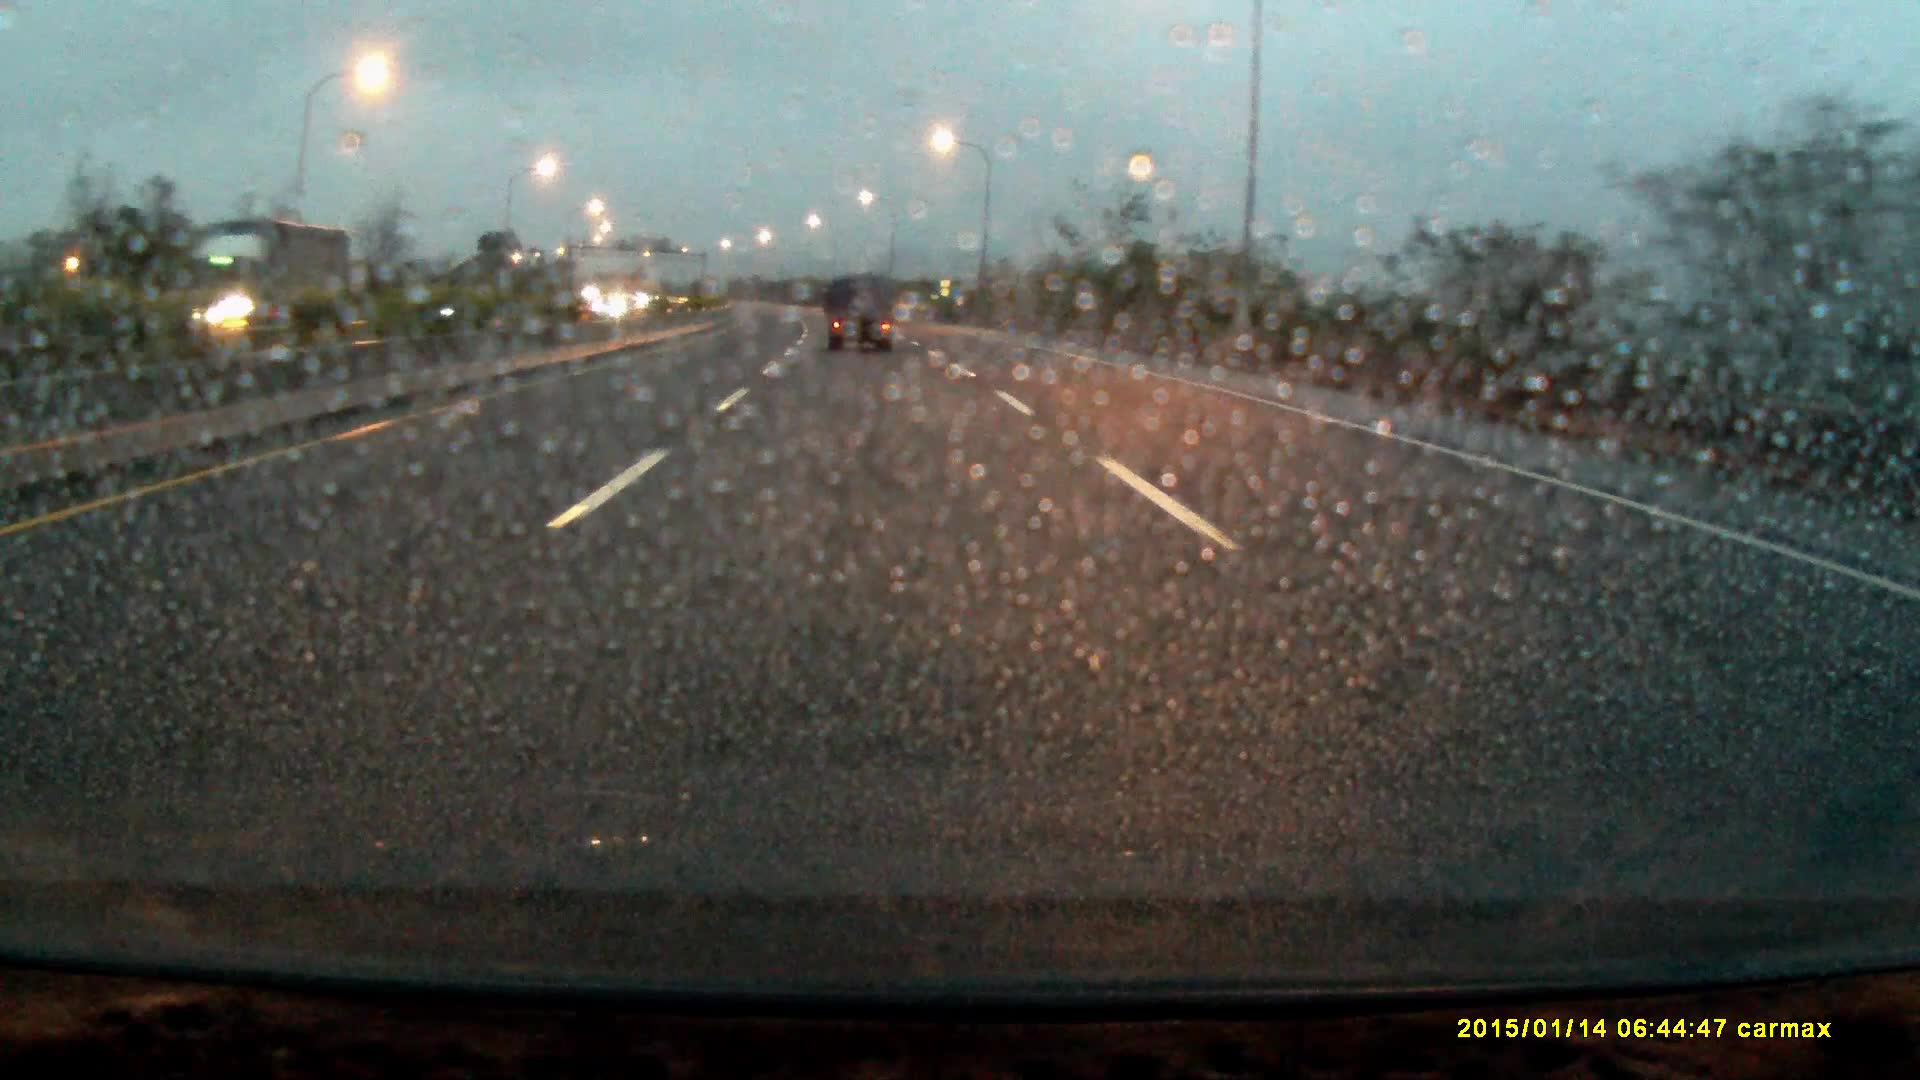vehicle: (157, 220, 356, 355), (825, 277, 899, 349), (601, 291, 642, 314)
